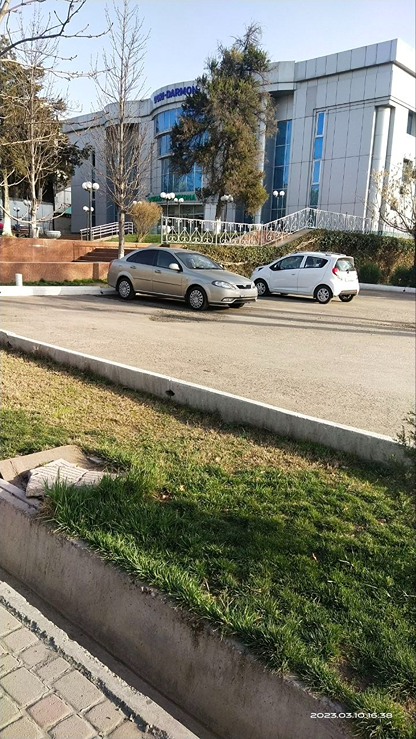car: (96, 237, 256, 312), (244, 251, 376, 304)
tree: (171, 26, 306, 206), (87, 1, 161, 231), (9, 16, 71, 235)
